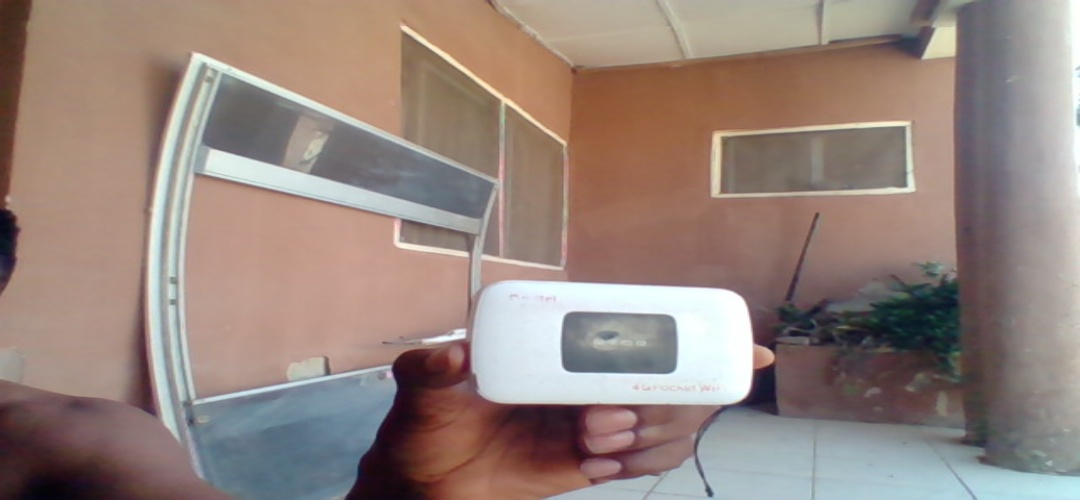mifi: (476, 279, 755, 406)
